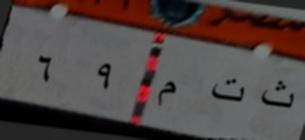6: (36, 54, 54, 86)
9: (96, 58, 113, 94)
meem: (155, 77, 180, 112)
taa: (204, 72, 246, 106)
thaa: (257, 72, 298, 115)
